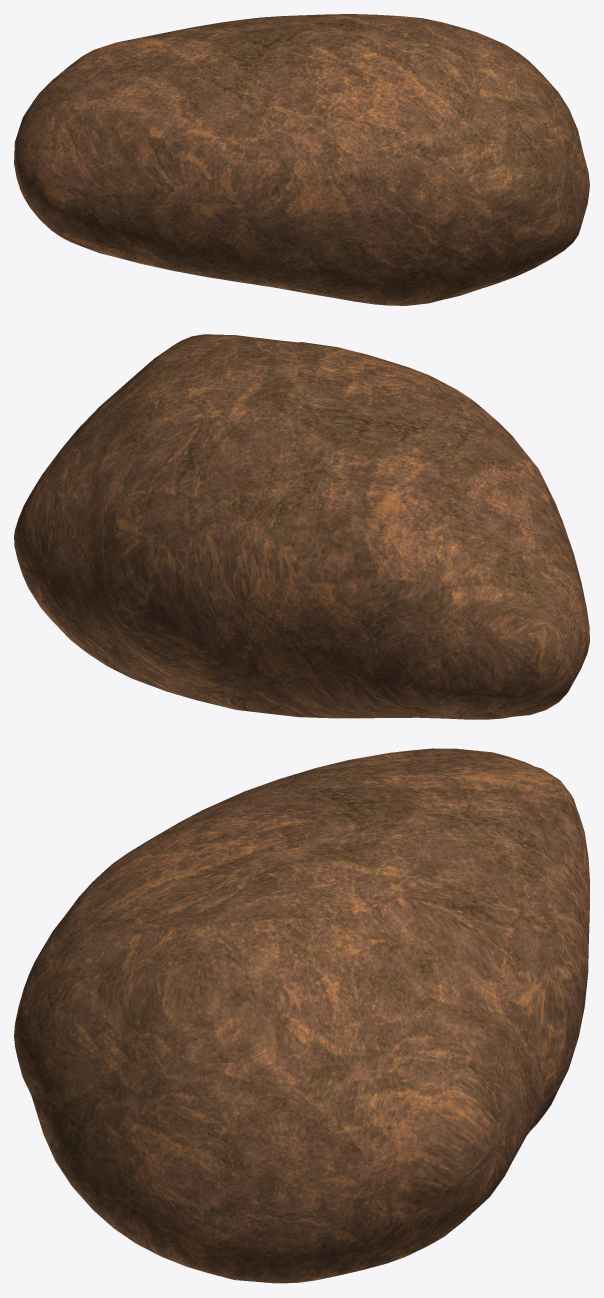
Rendered from Rock1.fbx.
3 views of the same model, one above another, from view 1: azimuth 30°, elevation 25°; view 2: azimuth 150°, elevation 25°; view 3: azimuth 270°, elevation 25° (orthographic). The views are drawn at different scales.
Visible parts, largest first — view 1: Rock1; view 2: Rock1; view 3: Rock1.
Part boxes in pixels (x1=…): Rock1: x1=14, y1=14, x2=589, y2=305; Rock1: x1=14, y1=334, x2=589, y2=719; Rock1: x1=14, y1=748, x2=589, y2=1283.
Size of the model in its own units: 598 by 301 by 441.
Materials: 1 (1 with a texture image).
